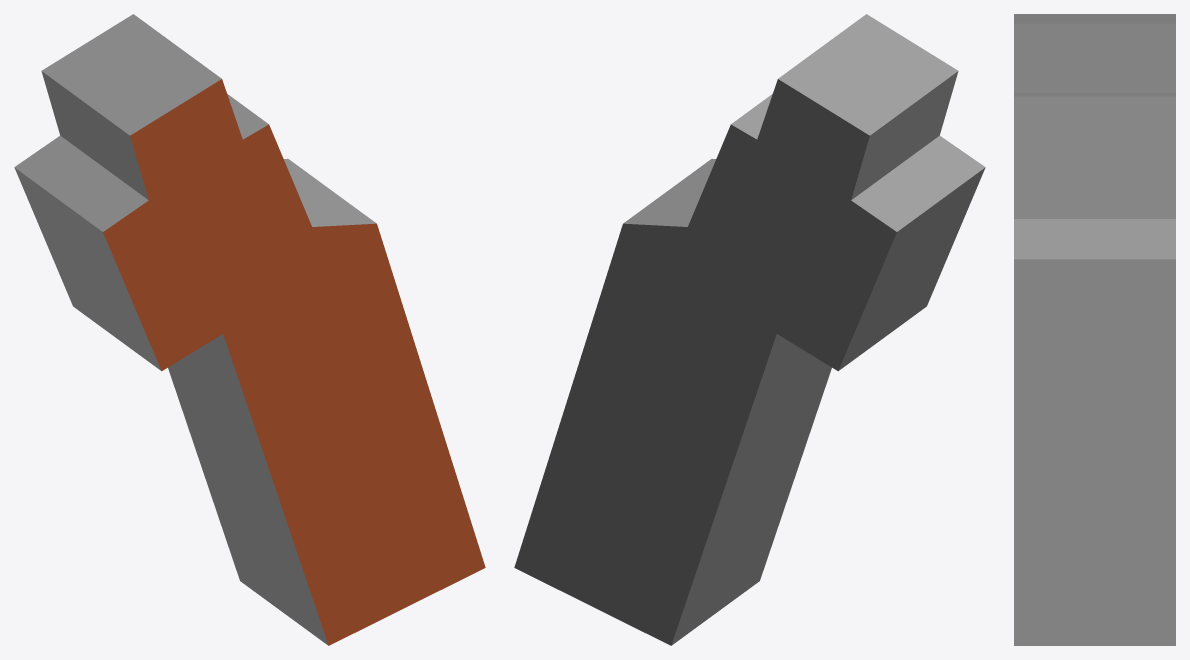
Rendered from construction_6622_assumed_A_Casa_h6m.obj.
The picture shows the model from 3 angles, left to right: view 1: azimuth 30°, elevation 25°; view 2: azimuth 150°, elevation 25°; view 3: azimuth 270°, elevation 25°; orthographic projection. The views are drawn at different scales.
Visible parts, largest first — view 1: construction_6622_assumed_A_Casa; view 2: construction_6622_assumed_A_Casa; view 3: construction_6622_assumed_A_Casa.
Part boxes in pixels (x1,y1,x2,y2): construction_6622_assumed_A_Casa: (14, 14, 485, 645); construction_6622_assumed_A_Casa: (514, 14, 985, 645); construction_6622_assumed_A_Casa: (1014, 14, 1175, 645).
Size of the model in its own units: 14.95 by 22.15 by 6.
